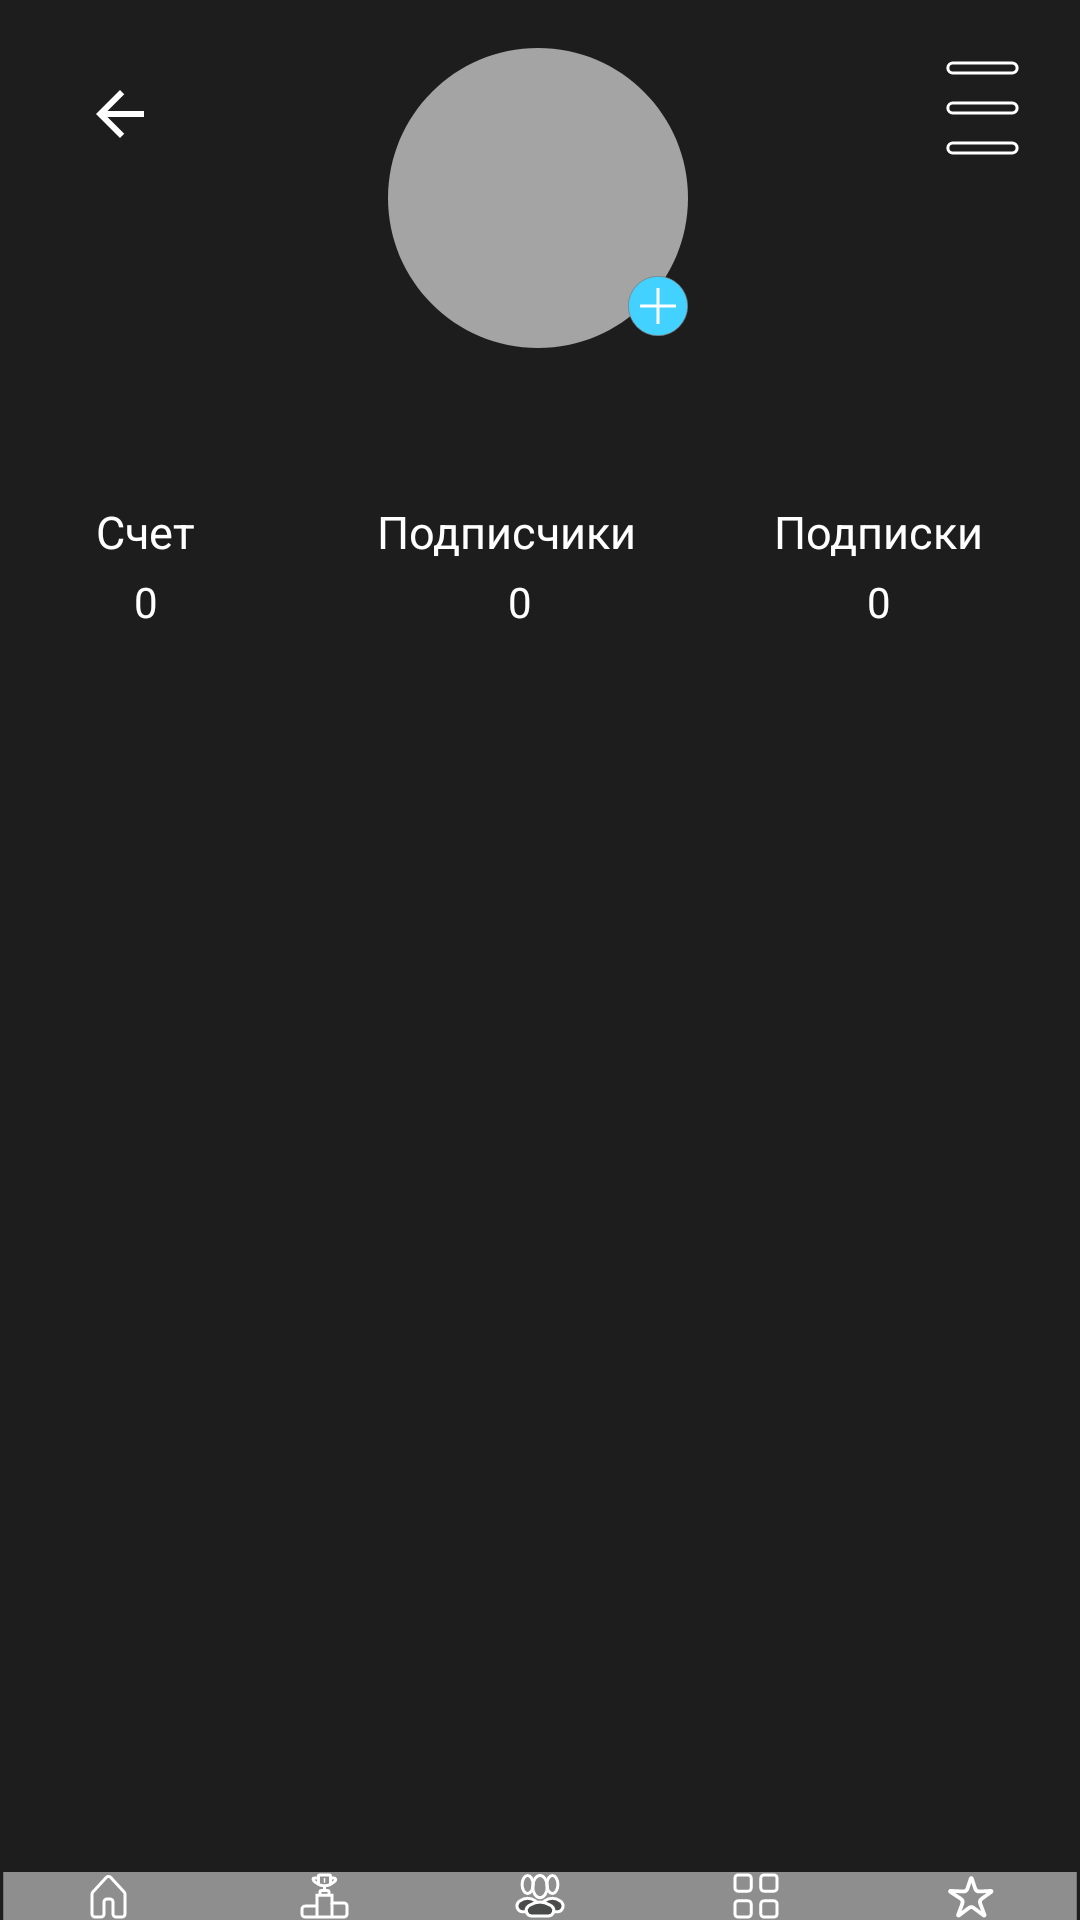

Named icons in this screenshot (1080px x 1920px) and their centers, (x,y):
back arrow: (120,114)
otherusers: (540,1896)
